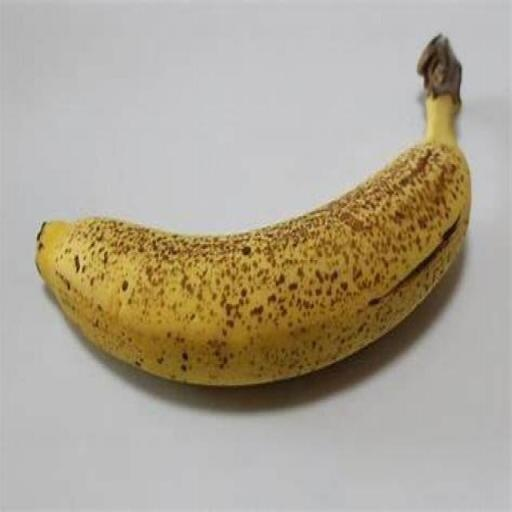fruit: (36, 36, 470, 384)
